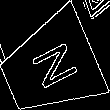N_SW: (22, 38, 78, 96)
